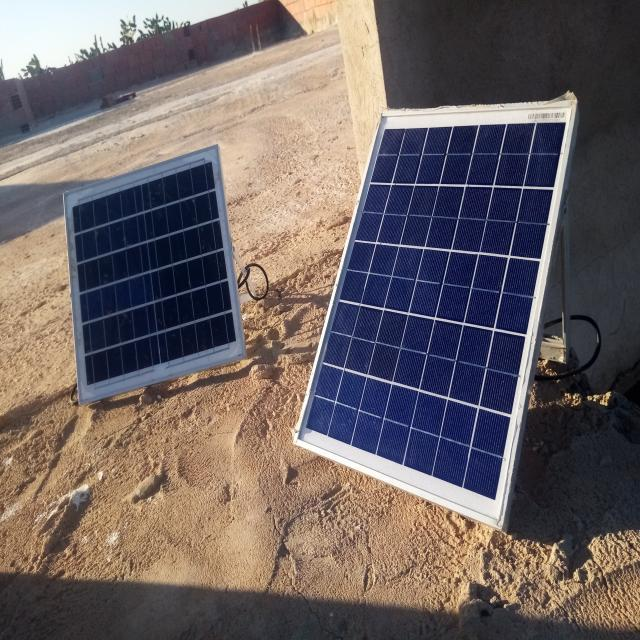faulty: (64, 144, 246, 404)
no faulty: (296, 99, 575, 527)
